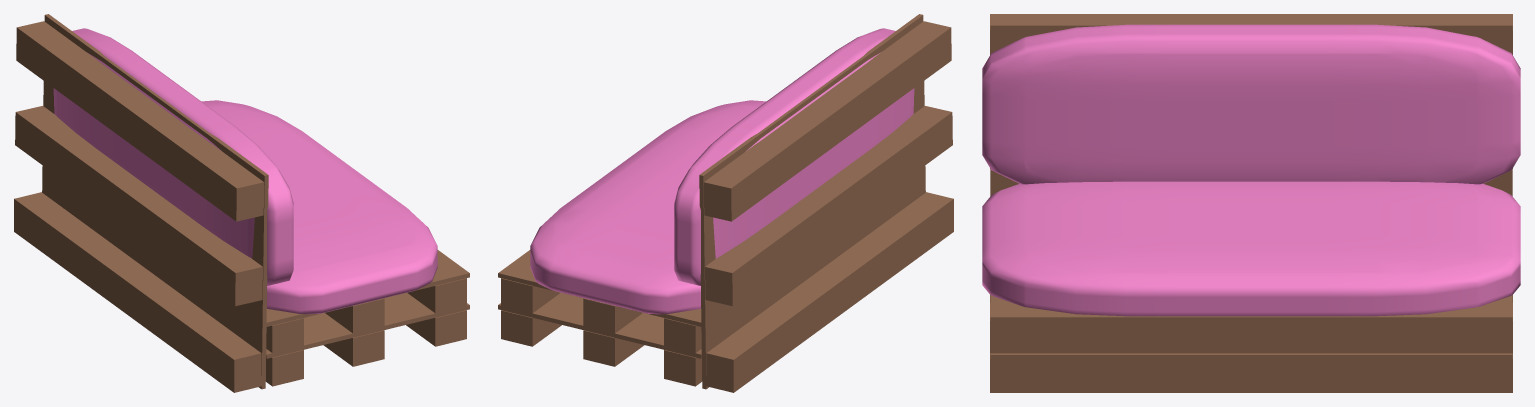
Rendered from sasiadkakrzeslo.glb.
3 views of the same model, side by side, from view 1: azimuth 30°, elevation 25°; view 2: azimuth 150°, elevation 25°; view 3: azimuth 270°, elevation 25° (orthographic). The views are drawn at different scales.
Visible parts, largest first — view 1: Mball.001, Cube.010, Cube.008, Mball.002, Cube.009, Cube.011, Cube.003, Cube.001, Cube.002, Cube.006, Cube.005, Cube.004 (+2 smaller); view 2: Mball.001, Cube.010, Cube.008, Mball.002, Cube.009, Cube.011, Cube.003, Cube.001, Cube.002, Cube.006, Cube.005, Cube.004 (+2 smaller); view 3: Mball.002, Mball.001, Cube.002, Cube.005, Cube.004, Cube.008, Cube.011, Cube.003.
Boxes of the visible parts, x1,y1,x2,y2 form: Mball.001: (201, 100, 437, 314); Cube.010: (14, 192, 261, 392); Cube.008: (16, 21, 264, 221); Mball.002: (53, 28, 293, 285); Cube.009: (15, 106, 262, 306); Cube.011: (42, 14, 268, 389); Cube.003: (266, 293, 469, 358); Cube.001: (323, 330, 384, 366); Cube.002: (406, 310, 466, 346); Cube.006: (325, 298, 384, 334); Cube.005: (407, 278, 466, 314); Cube.004: (266, 250, 469, 326); Mball.001: (530, 100, 766, 314); Cube.010: (706, 192, 953, 392); Cube.008: (703, 21, 951, 221); Mball.002: (674, 28, 914, 285); Cube.009: (705, 106, 952, 306); Cube.011: (699, 14, 925, 389); Cube.003: (498, 293, 701, 358); Cube.001: (583, 330, 644, 366); Cube.002: (501, 310, 561, 346); Cube.006: (583, 298, 642, 334); Cube.005: (501, 278, 560, 314); Cube.004: (498, 250, 701, 326); Mball.002: (982, 24, 1520, 184); Mball.001: (982, 181, 1520, 316); Cube.002: (990, 355, 1512, 392); Cube.005: (990, 303, 1512, 354); Cube.004: (990, 294, 1512, 322); Cube.008: (990, 14, 1512, 54); Cube.011: (990, 23, 1512, 195); Cube.003: (990, 353, 1512, 359).
Bounding box in the file's own units: 2.33 × 2.02 × 3.88.
Materials: 14 (14 with a texture image).
